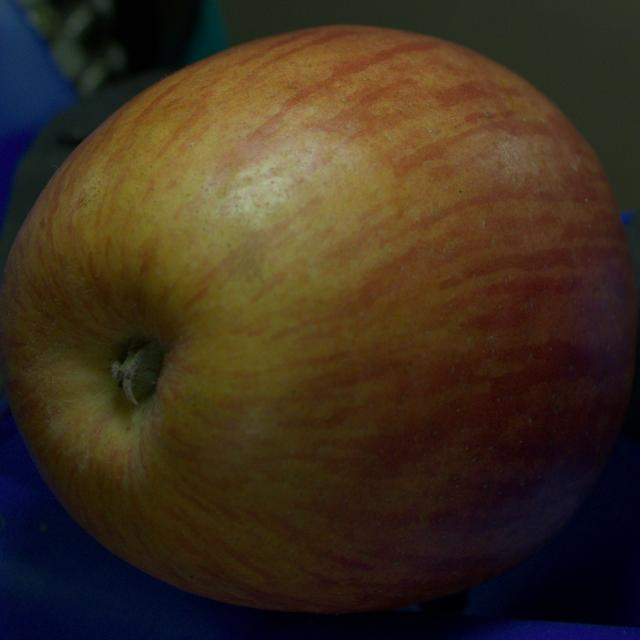apple: (0, 26, 638, 612)
